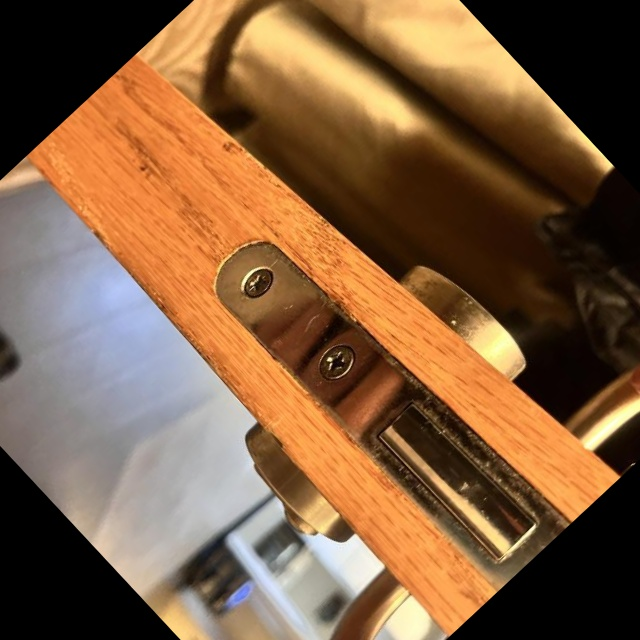phillips: (312, 337, 362, 387)
pozidriv: (238, 263, 278, 303)
